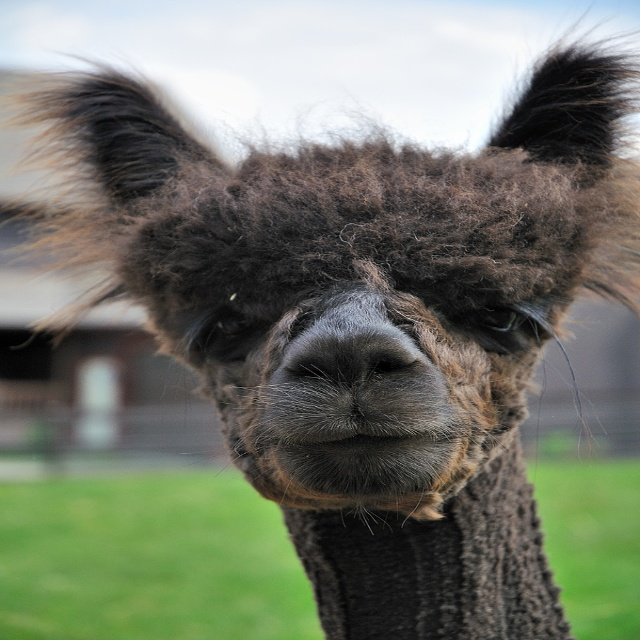Camel: (0, 41, 639, 640)
